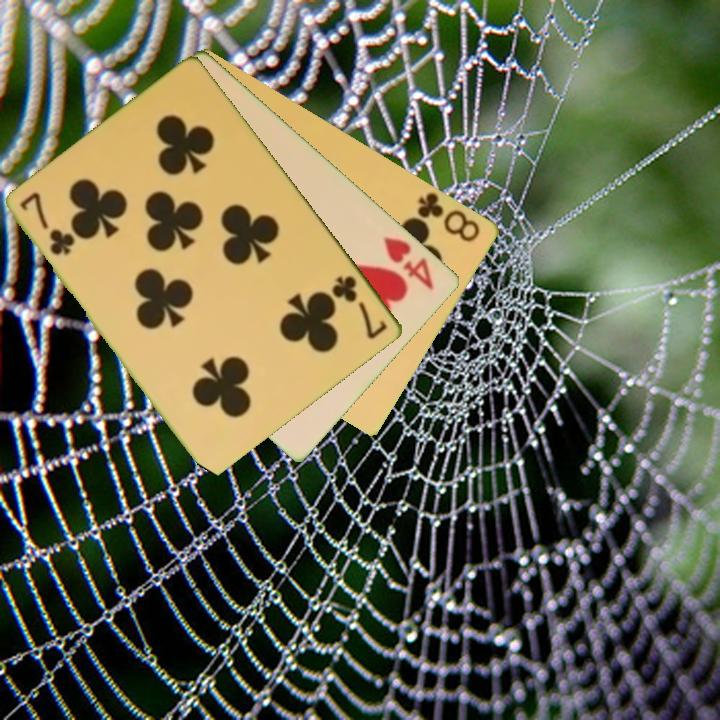4h: (380, 233, 438, 293)
7c: (328, 272, 391, 343), (16, 189, 77, 259)
8c: (414, 188, 484, 245)
